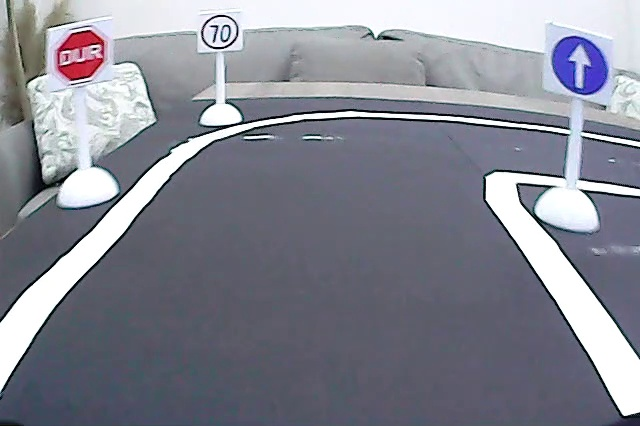speed limit 70: (200, 13, 241, 52)
stop sign: (52, 24, 110, 84)
